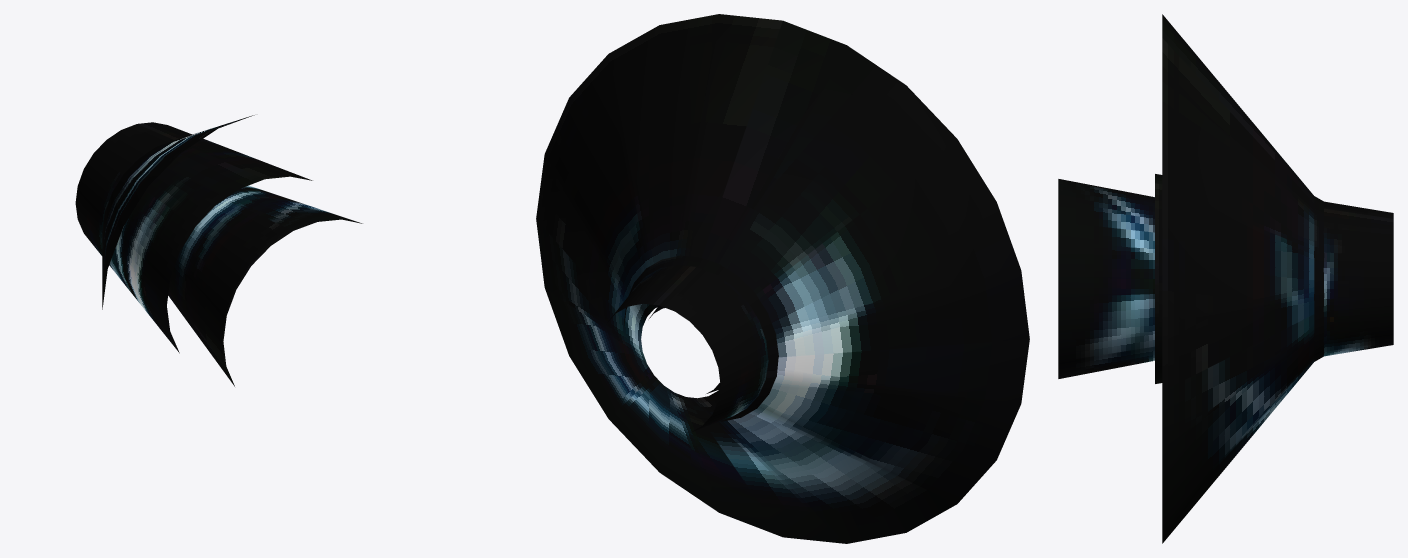
Rendered from shockwave_spin01.glb.
3 renders of one model, left to right at view 1: azimuth 30°, elevation 25°; view 2: azimuth 150°, elevation 25°; view 3: azimuth 270°, elevation 25°, orthographic. The views are drawn at different scales.
Parts seen in each view (by area): view 1: model_shockwave_spin01; view 2: model_shockwave_spin01; view 3: model_shockwave_spin01.
Boxes of the visible parts, left/top/right/bottom form: model_shockwave_spin01: left=75, top=115, right=362, bottom=386; model_shockwave_spin01: left=536, top=14, right=1029, bottom=543; model_shockwave_spin01: left=1058, top=14, right=1393, bottom=543.
Size of the model in its own units: 3.1 by 3.1 by 1.95.
Materials: 1 (1 with a texture image).
